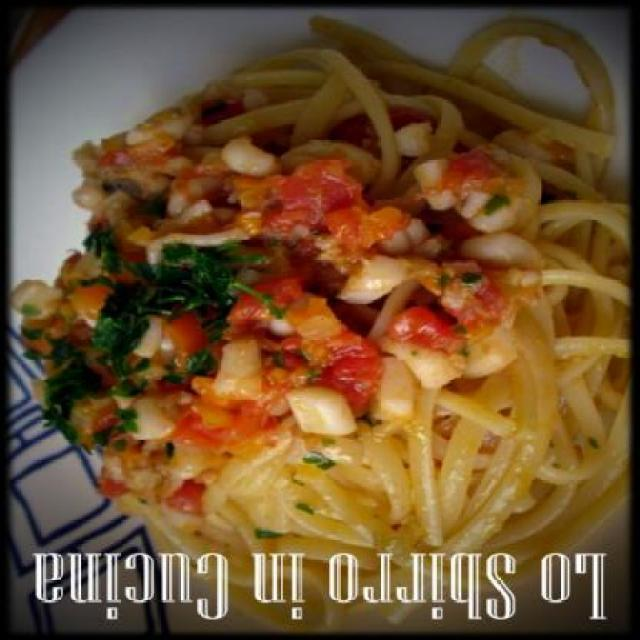Pasta al ragu: (40, 51, 589, 503)
